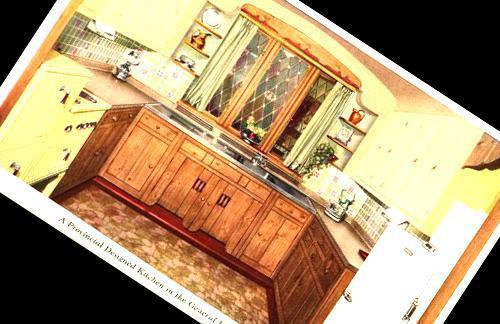Lavaplatos: (236, 145, 289, 191)
